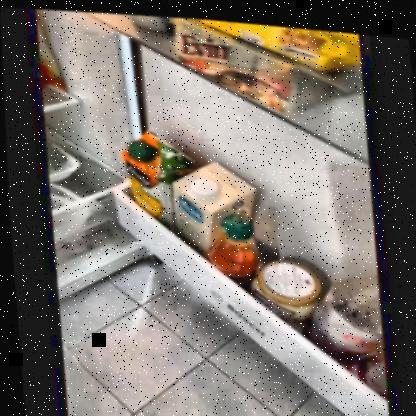milk: (170, 150, 229, 242)
